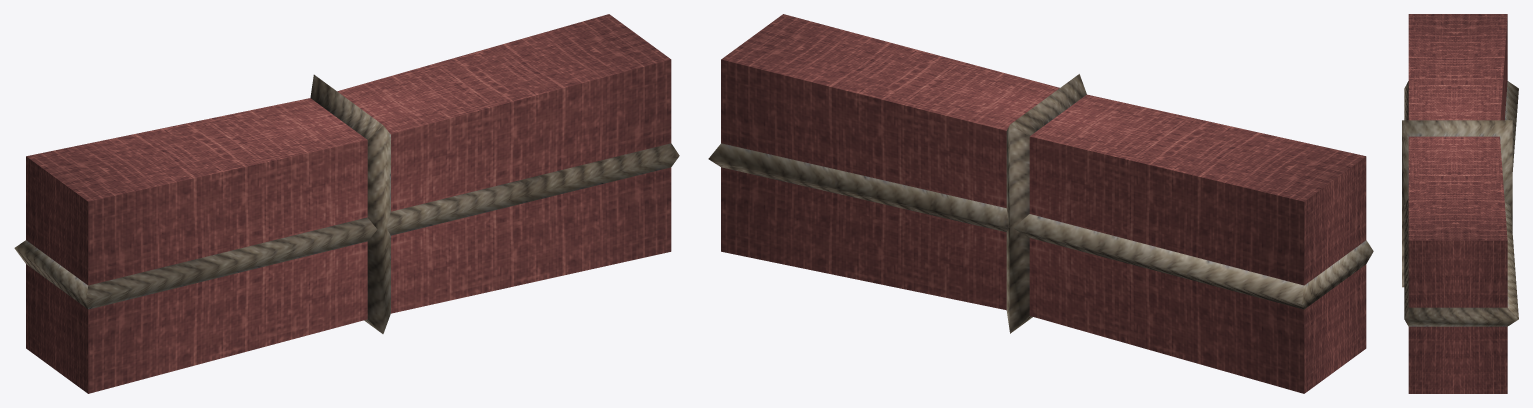
File: Package_Type_03_C.fbx
The picture shows the model from 3 angles, left to right: view 1: azimuth 30°, elevation 25°; view 2: azimuth 150°, elevation 25°; view 3: azimuth 270°, elevation 25°; orthographic projection. The views are drawn at different scales.
Visible parts, largest first — view 1: Package_Type_03_C; view 2: Package_Type_03_C; view 3: Package_Type_03_C.
Part boxes in pixels (x1,y1,x2,y2): Package_Type_03_C: [14, 14, 679, 393]; Package_Type_03_C: [708, 14, 1373, 393]; Package_Type_03_C: [1402, 14, 1518, 393].
Bounding box in the file's own units: 1.21 × 0.409 × 0.2598.
